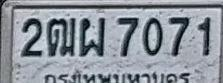0: (142, 17, 162, 56)
1: (198, 16, 210, 56)
2: (21, 18, 42, 56)
7: (117, 16, 139, 56), (168, 16, 190, 56)
A18: (47, 17, 76, 56)
A28: (78, 17, 106, 57)
